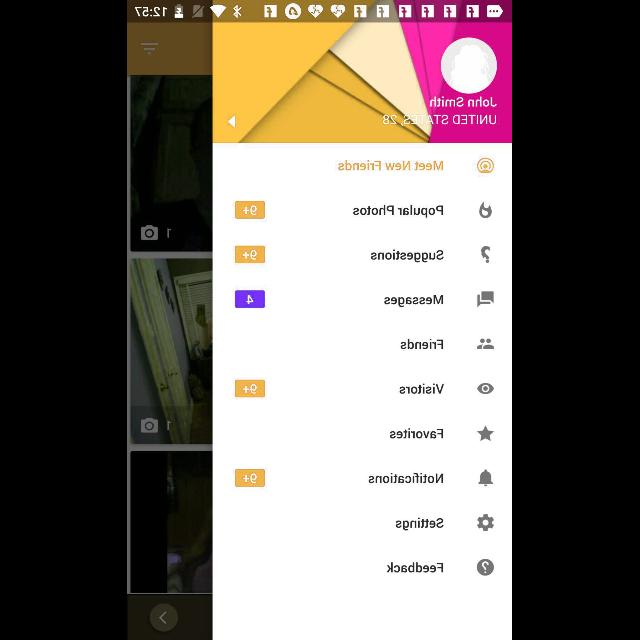icon: (442, 38, 498, 94), (478, 558, 494, 576), (478, 514, 494, 532), (478, 469, 494, 486), (478, 425, 494, 441), (478, 292, 494, 308), (478, 158, 494, 174), (477, 338, 495, 349), (482, 246, 491, 264), (478, 384, 494, 394), (228, 115, 236, 128)
image: (480, 202, 492, 218)
panel: (213, 23, 512, 639)
text: (384, 114, 498, 126), (340, 160, 444, 172), (354, 205, 444, 218), (372, 250, 444, 262), (430, 96, 498, 108), (370, 472, 444, 483), (386, 294, 444, 308), (396, 517, 444, 531), (388, 562, 444, 574), (390, 428, 444, 438), (402, 338, 444, 349), (400, 384, 446, 394)
textbutton: (236, 201, 266, 219), (236, 246, 266, 264), (236, 290, 266, 308), (236, 380, 266, 398), (236, 469, 266, 487)
uppertaskbar: (128, 1, 512, 23)
